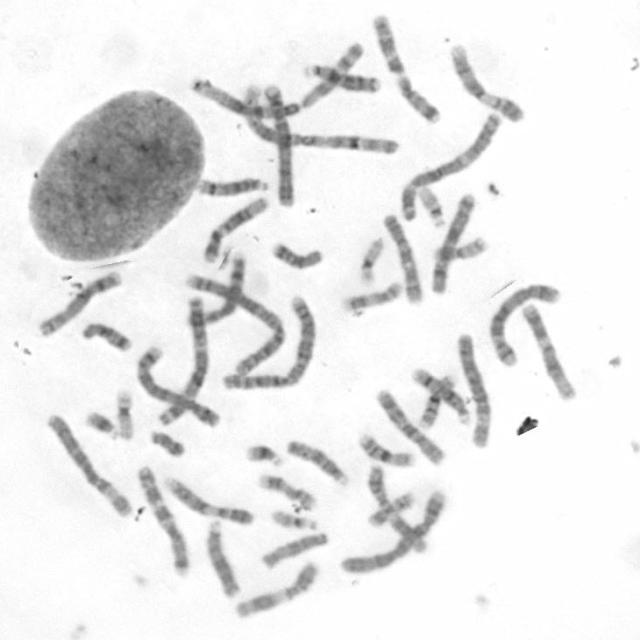A1: (186, 36, 367, 120), (240, 83, 402, 158)
A2: (183, 269, 287, 375), (219, 292, 318, 391)
A3: (394, 108, 502, 224), (154, 292, 210, 428)
B4: (336, 487, 449, 578), (258, 79, 298, 208)
B5: (131, 342, 222, 429), (484, 280, 562, 368)
C10: (373, 385, 446, 467), (379, 209, 425, 306)
C11: (363, 462, 427, 553), (230, 558, 320, 621)
C12: (519, 300, 579, 402), (199, 193, 270, 265)
C6: (42, 408, 135, 520), (453, 328, 494, 450)
C7: (369, 12, 445, 126), (133, 463, 191, 576)
C8: (34, 267, 124, 339), (197, 249, 247, 325)
C9: (446, 38, 526, 125), (160, 473, 254, 528)
D13: (202, 517, 242, 598), (298, 60, 381, 94)
D14: (407, 365, 471, 426), (193, 171, 270, 198)
D15: (284, 436, 350, 486), (258, 529, 330, 571)
E16: (355, 429, 417, 468), (418, 374, 459, 428)
E17: (255, 470, 318, 511), (338, 277, 404, 314)
E18: (268, 238, 326, 272), (78, 318, 133, 353)
F19: (354, 233, 386, 286), (110, 386, 138, 442)
F20: (365, 492, 416, 533), (429, 233, 490, 262)
G21: (81, 406, 121, 441), (241, 440, 285, 468)
G22: (415, 182, 448, 228), (269, 507, 320, 531)
X: (426, 190, 478, 296)
Y: (146, 427, 187, 459)
